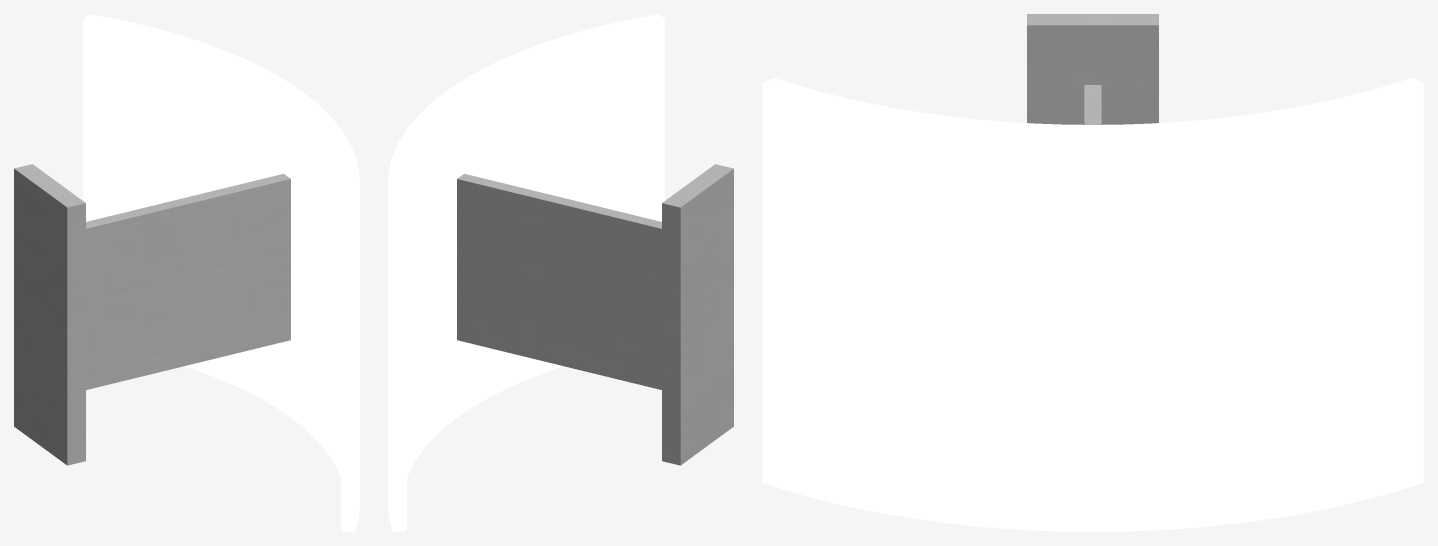
The model's file is recCjWv3sTInlvmQx.glb.
3 renders of one model, left to right at view 1: azimuth 30°, elevation 25°; view 2: azimuth 150°, elevation 25°; view 3: azimuth 270°, elevation 25°, orthographic. The views are drawn at different scales.
Visible parts, largest first — view 1: applique_mezzanine_1_Corps; view 2: applique_mezzanine_1_Corps; view 3: applique_mezzanine_1_Corps.
Boxes of the visible parts, x1=… form: applique_mezzanine_1_Corps: x1=14, y1=14, x2=359, y2=531; applique_mezzanine_1_Corps: x1=388, y1=14, x2=733, y2=531; applique_mezzanine_1_Corps: x1=762, y1=14, x2=1423, y2=531.
Bounding box in the file's own units: 0.085 × 0.1 × 0.15.
2 materials, 1 textured.
